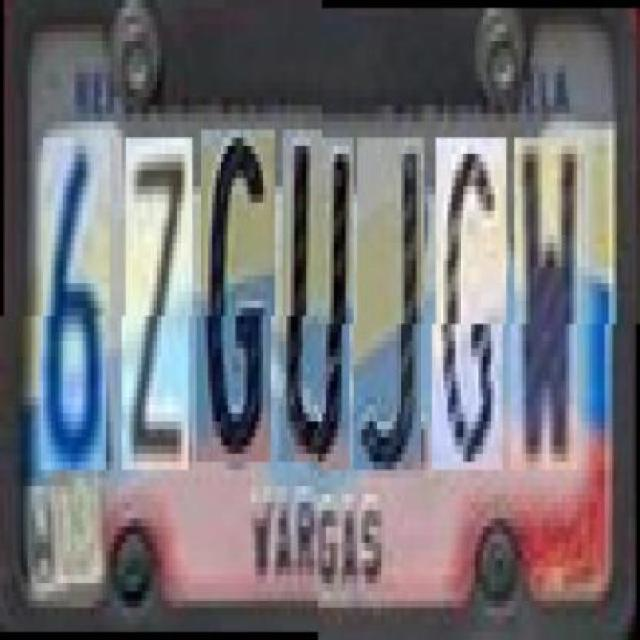6: (42, 146, 110, 479)
g: (200, 138, 275, 470), (436, 138, 506, 470)
j: (358, 138, 424, 470)
u: (282, 138, 353, 470)
w: (514, 138, 581, 470)
z: (125, 146, 193, 479)
